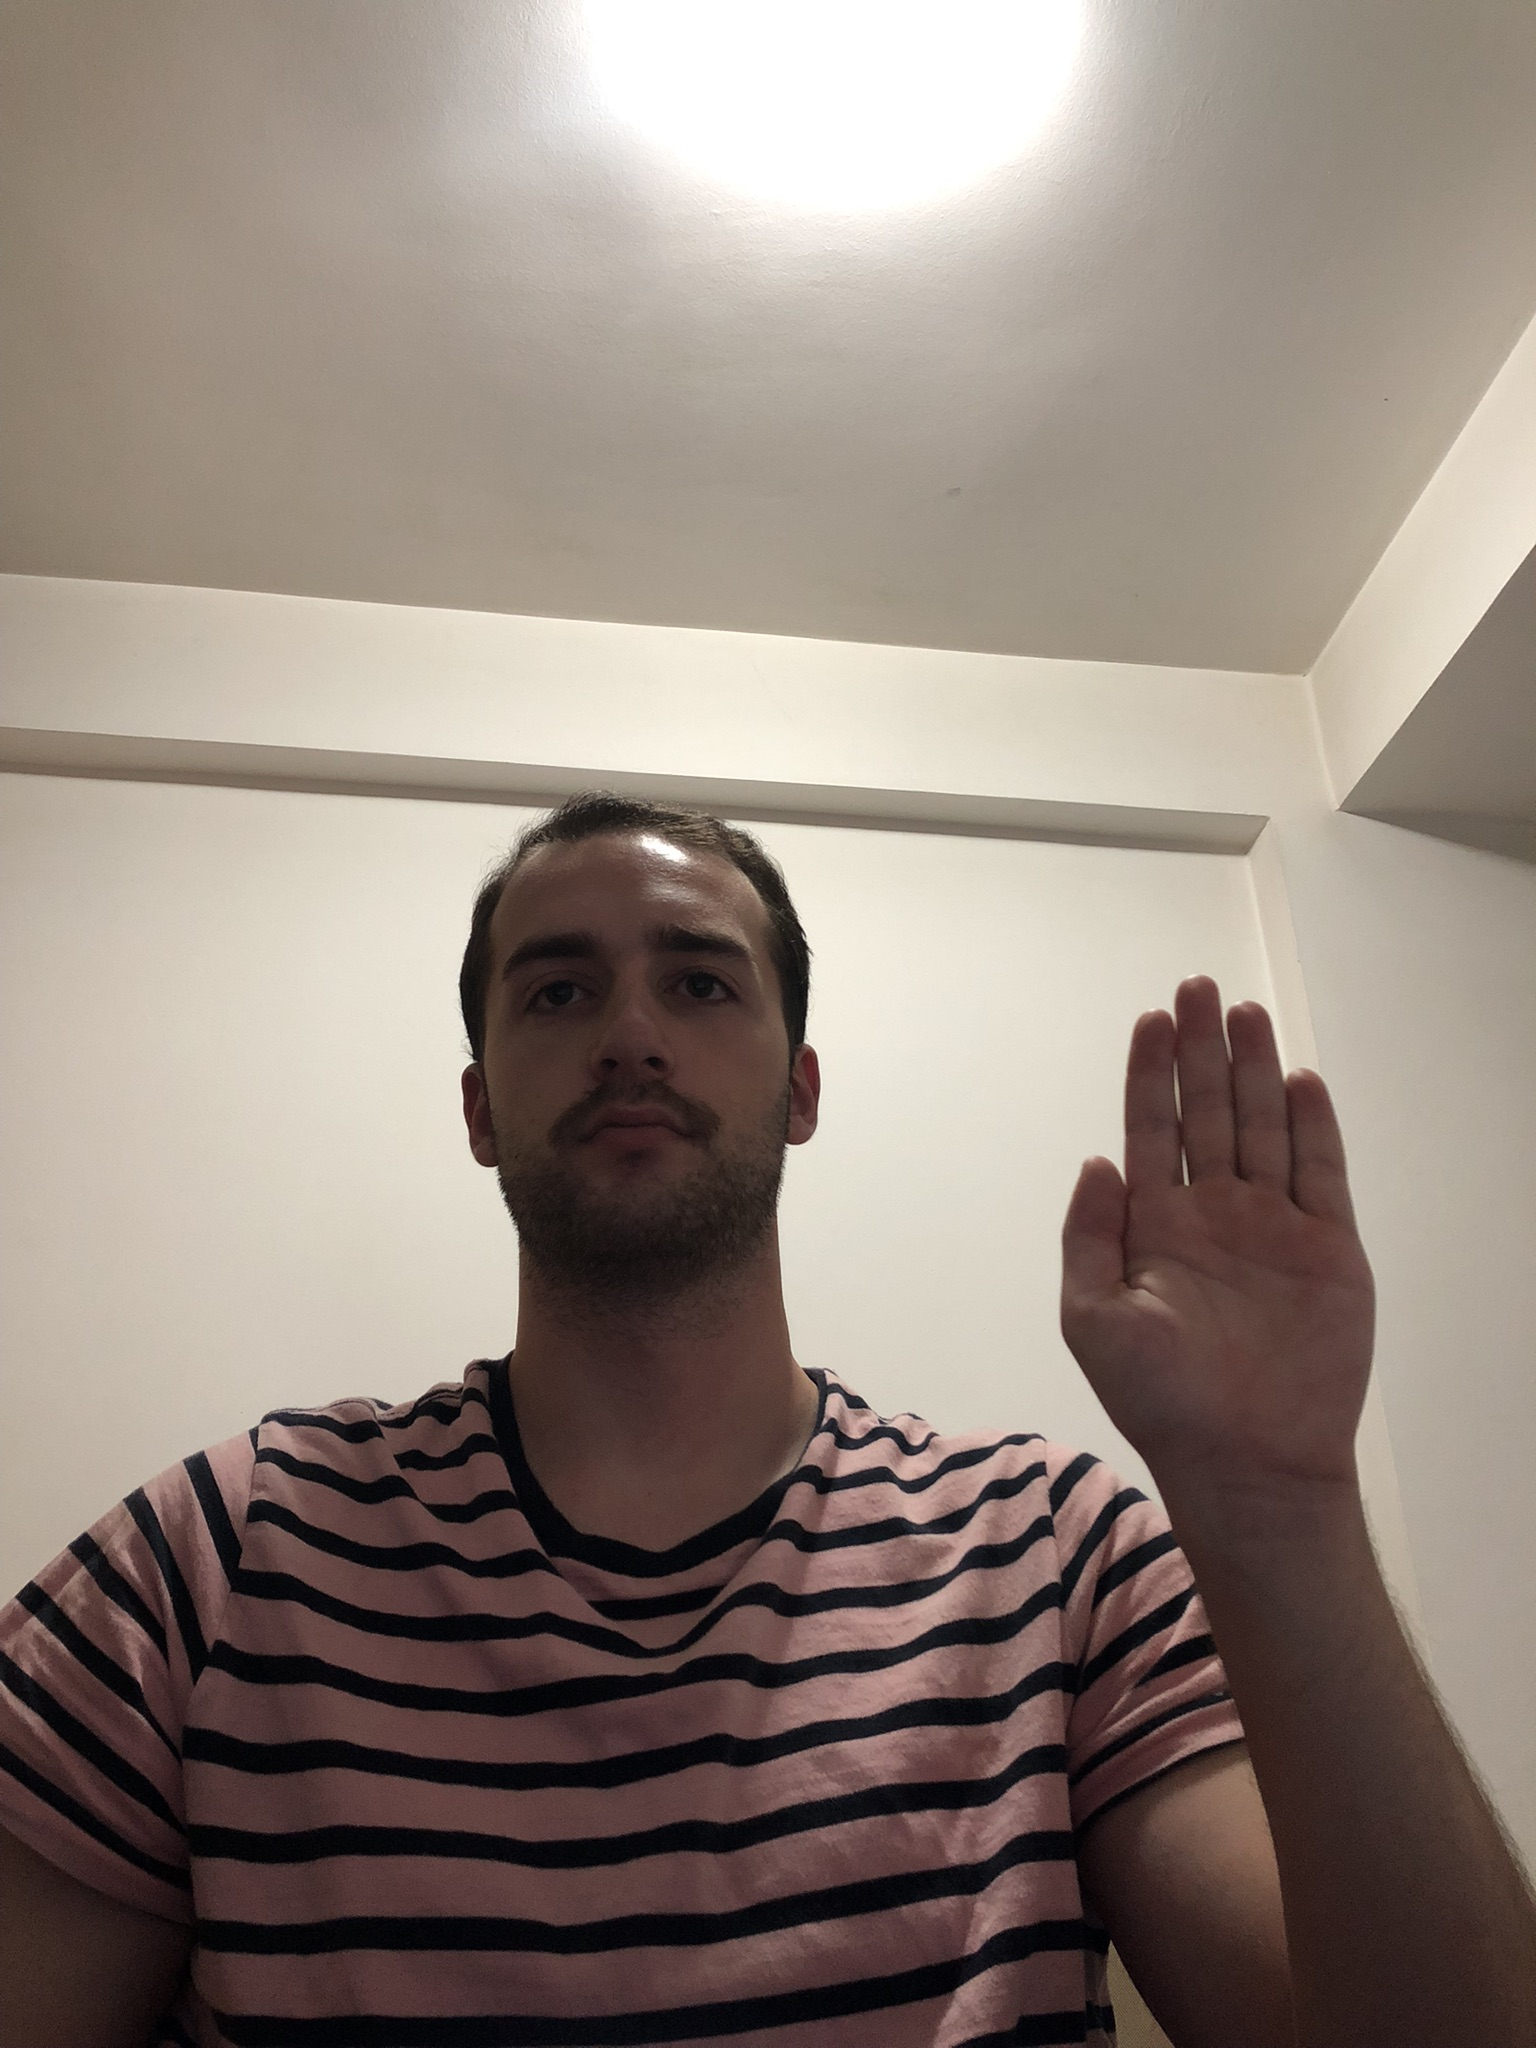Hello: (1042, 959, 1396, 1522)
